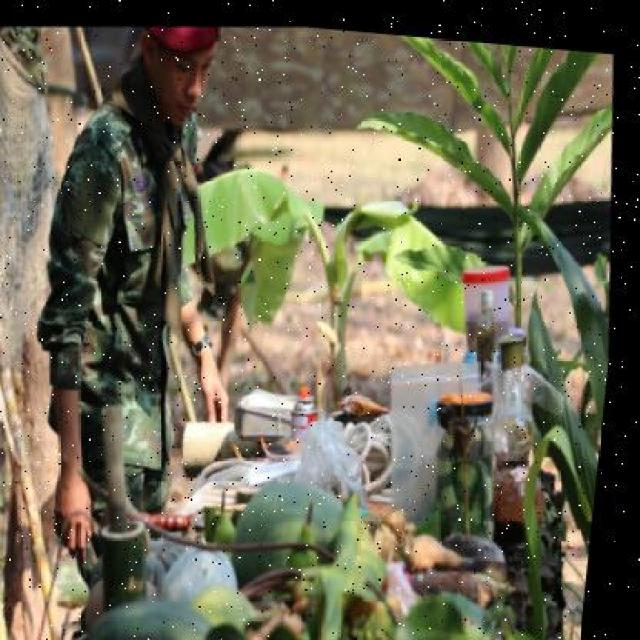MIL_Pax: (53, 23, 242, 561)
